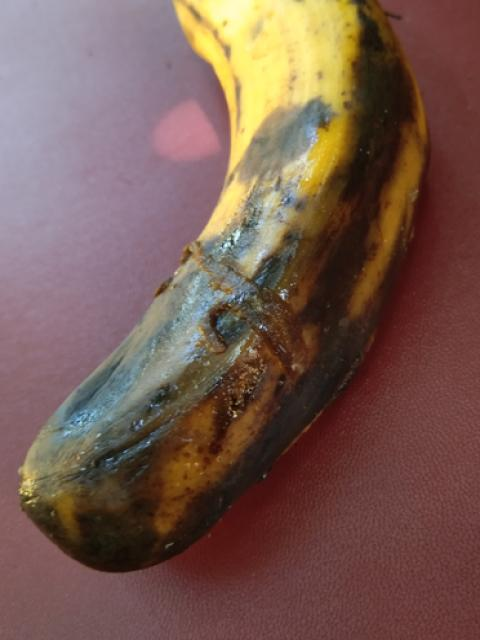rotten: (12, 0, 466, 605)
